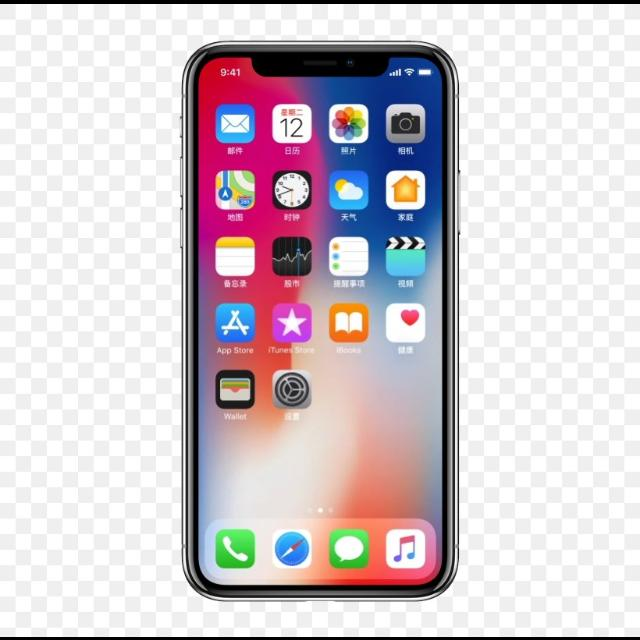Smartphone: (179, 39, 464, 603)
